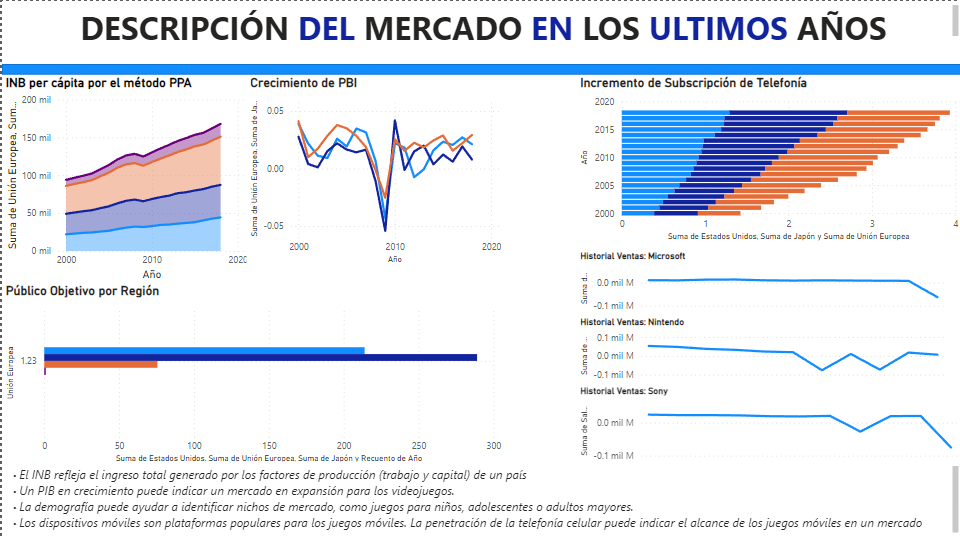

What the dashboard file says about the page in this screenshot:
{"tool":"powerbi","page":{"name":"P1","canvas":[1280,720],"ordinal":0},"visuals":[{"type":"textbox","box":[310,0,970,58.6],"z":0},{"type":"stackedAreaChart","title":"INB per cápita por el método PPA","fields":{"Category":["INB PPA.Año"],"Y":["Sum(INB PPA.EUU)","Sum(INB PPA.JPN)","Sum(INB PPA.USA)","Sum(INB PPA.WLD)"]},"box":[0,98,332,278],"z":1000},{"type":"lineChart","title":"Crecimiento de PBI","fields":{"Category":["PBI%.Año"],"Y":["Sum(PBI%.EUU)","Sum(PBI%.JPN)","Sum(PBI%.USA)"]},"box":[326,98,344,256],"z":2000},{"type":"clusteredBarChart","title":"Público Objetivo por Región","fields":{"Category":["Movil.Unión Europea","Movil.Estados Unidos","Movil.Japón"],"Y":["Sum(Target(Mill).Estados Unidos)","Sum(Target(Mill).Unión Europea)","Sum(Target(Mill).Japón)","CountNonNull(Movil.Año)"]},"box":[0,376,670,244],"z":3000},{"type":"textbox","box":[0,614,1280,106],"z":4000},{"type":"barChart","title":"Incremento de Subscripción de Telefonía","fields":{"Category":["Movil.Año"],"Y":["Sum(Movil.Estados Unidos)","Sum(Movil.Japón)","Sum(Movil.Unión Europea)"]},"box":[766,98,514,226],"z":5000},{"type":"shape","box":[0,84,1280,14],"z":6000},{"type":"lineChart","title":"Historial Ventas: Microsoft","fields":{"Category":["Ventas anual.Year"],"Y":["Sum(Ventas anual.Sales)"]},"box":[766,332,496,88],"z":7000},{"type":"lineChart","title":"Historial Ventas: Nintendo","fields":{"Category":["Ventas anual.Year"],"Y":["Sum(Ventas anual.Sales)"]},"box":[766,420,496,92],"z":7001},{"type":"lineChart","title":"Historial Ventas: Sony","fields":{"Category":["Ventas anual.Year"],"Y":["Sum(Ventas anual.Sales)"]},"box":[766,512,514,108],"z":7002},{"type":"image","box":[0,0,227.5,70],"z":7003}]}

Visuals, with their boxes in screenshot pixels (x1, y1, x2, y2), scaled from the page's 1280x720 canvas onto the 960x537 screenshot:
textbox: <region>232, 0, 959, 44</region>
"INB per cápita por el método PPA" stackedAreaChart: <region>0, 73, 249, 280</region>
"Crecimiento de PBI" lineChart: <region>244, 73, 502, 264</region>
"Público Objetivo por Región" clusteredBarChart: <region>0, 280, 502, 462</region>
textbox: <region>0, 458, 959, 536</region>
"Incremento de Subscripción de Telefonía" barChart: <region>574, 73, 959, 242</region>
shape: <region>0, 63, 959, 73</region>
"Historial Ventas: Microsoft" lineChart: <region>574, 248, 946, 313</region>
"Historial Ventas: Nintendo" lineChart: <region>574, 313, 946, 382</region>
"Historial Ventas: Sony" lineChart: <region>574, 382, 959, 462</region>
image: <region>0, 0, 171, 52</region>
